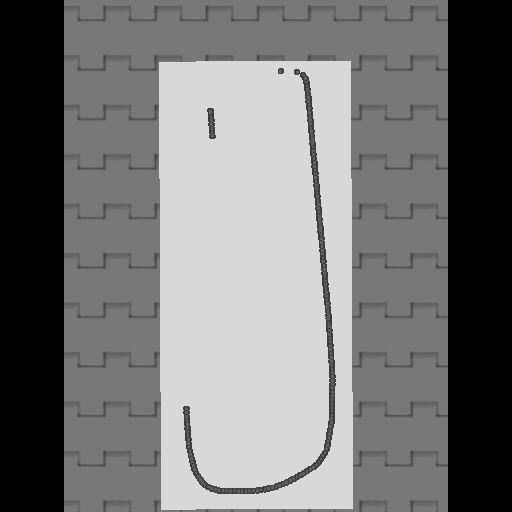Defect: (181, 141, 217, 404)
